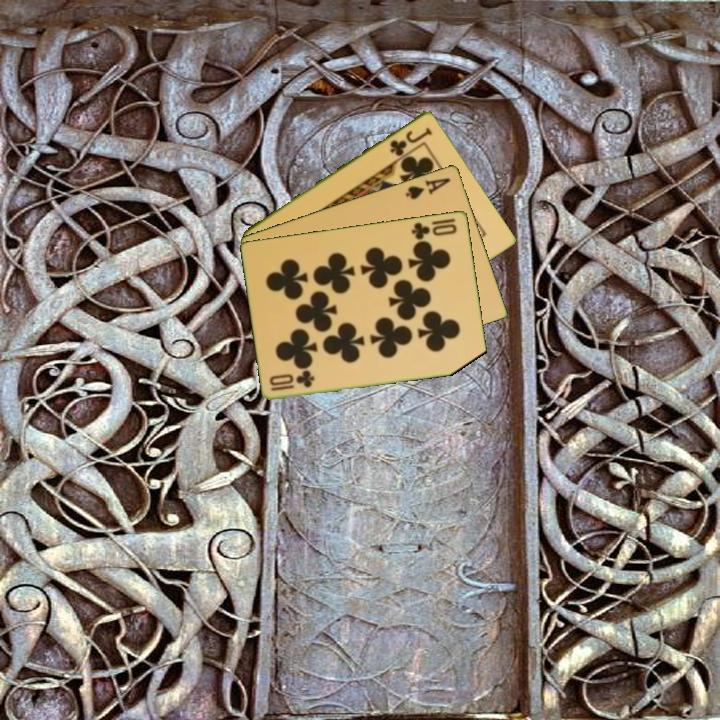10c: (266, 368, 317, 394), (408, 218, 460, 243)
As: (402, 174, 453, 202)
Jc: (386, 123, 435, 158)
